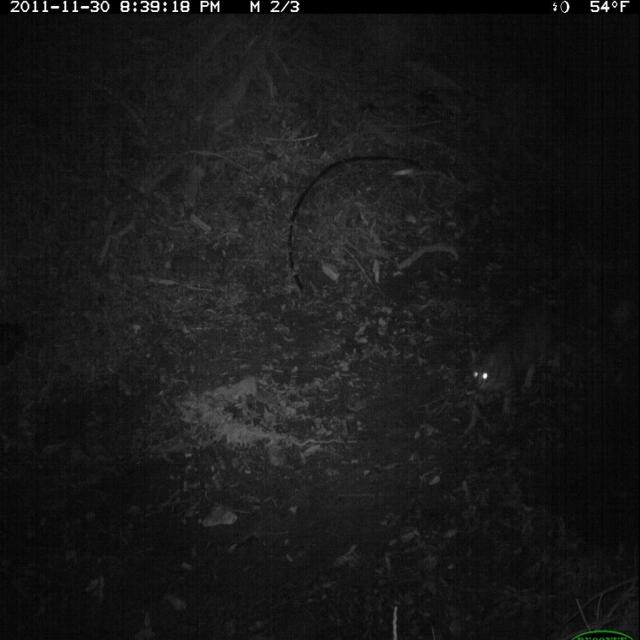cat: (460, 288, 568, 442)
